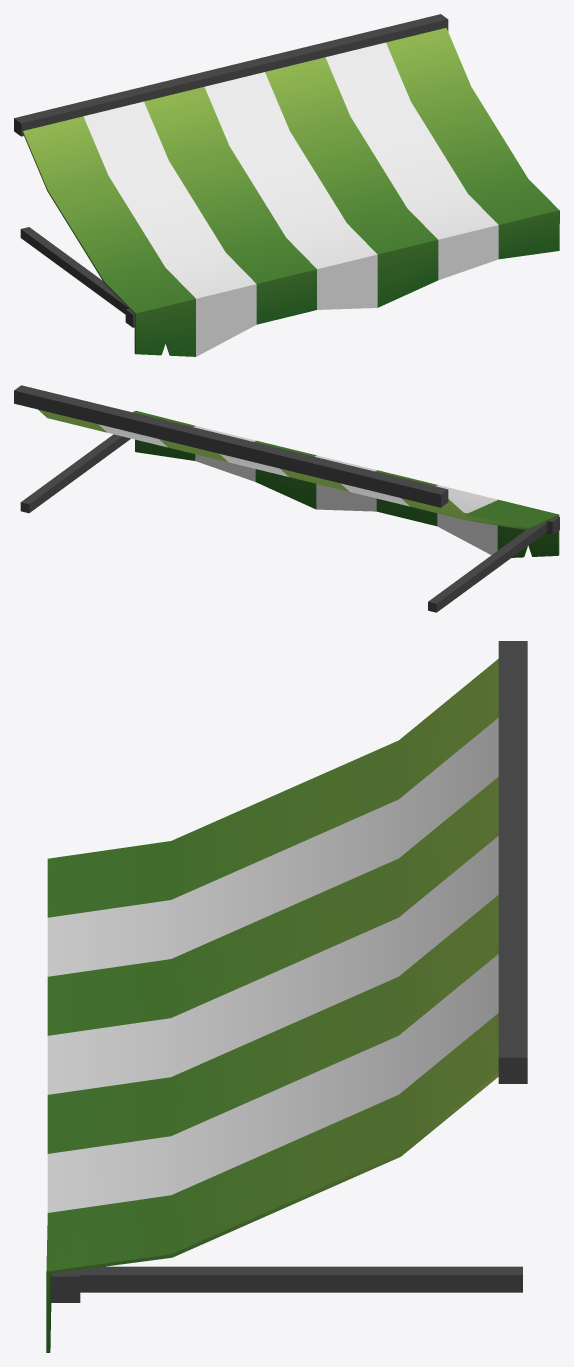
Rendered from SM_BuildingsDecor_31.fbx.
The picture shows the model from 3 angles, top to bottom: view 1: azimuth 30°, elevation 25°; view 2: azimuth 150°, elevation 25°; view 3: azimuth 270°, elevation 25°; orthographic projection. The views are drawn at different scales.
Visible parts, largest first — view 1: SM_BuildingsDecor_31; view 2: SM_BuildingsDecor_31; view 3: SM_BuildingsDecor_31.
Part boxes in pixels (left/top/right/bottom): SM_BuildingsDecor_31: left=14, top=14, right=559, bottom=356; SM_BuildingsDecor_31: left=14, top=385, right=559, bottom=612; SM_BuildingsDecor_31: left=46, top=641, right=527, bottom=1352.
Size of the model in its own units: 2.5 by 0.9295 by 1.22.
